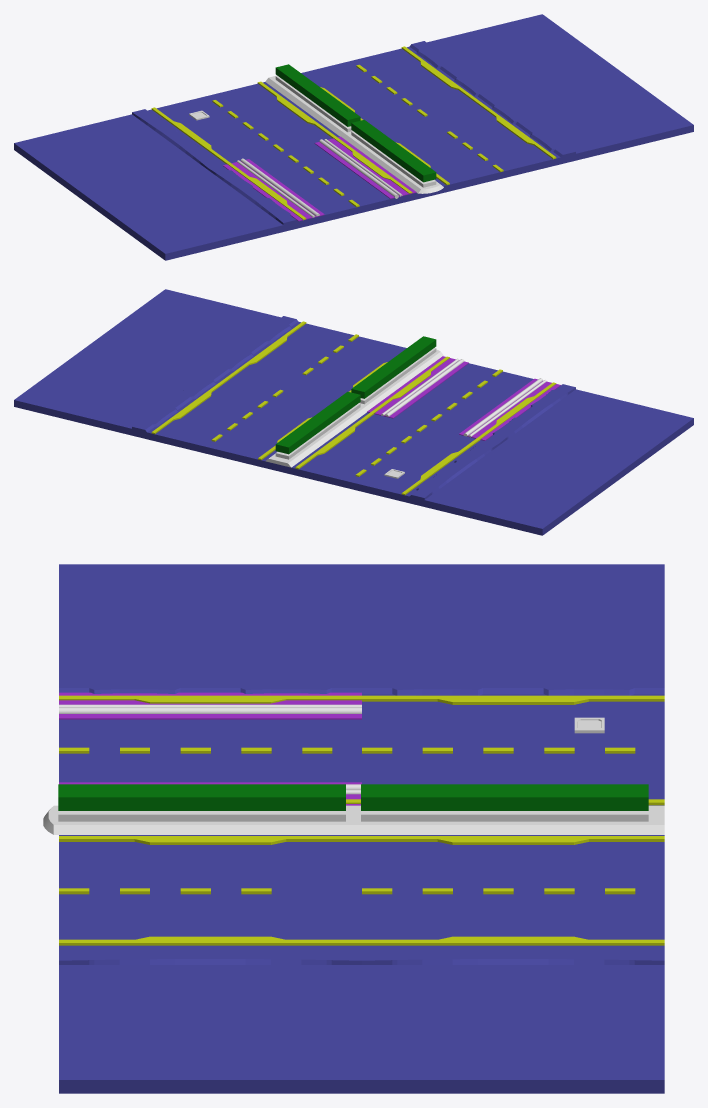
The model's file is Test_Route01.FBX.
3 views of the same model, one above another, from view 1: azimuth 30°, elevation 25°; view 2: azimuth 150°, elevation 25°; view 3: azimuth 270°, elevation 25° (orthographic). The views are drawn at different scales.
Parts seen in each view (by area): view 1: Box095, Box113, Box067, Box090, Box098, Box042, Box074, Box091, Box112, Box089, Box115, Box114 (+12 smaller); view 2: Box067, Box090, Box095, Box113, Box042, Box074, Box098, Box091, Box089, Box112, Box115, Box114 (+12 smaller); view 3: Box090, Box113, Box067, Box095, Box098, Box074, Box042, Box091, Box089, Box112, Box054, Box094 (+12 smaller).
Part boxes in pixels (box(x1,y1,x2,y2)): Box095: box(89, 164, 298, 260); Box113: box(485, 69, 693, 164); Box067: box(14, 109, 220, 204); Box090: box(409, 14, 617, 101); Box098: box(377, 102, 560, 195); Box042: box(147, 82, 339, 165); Box074: box(301, 46, 484, 128); Box091: box(250, 143, 429, 227); Box112: box(351, 119, 436, 182); Box089: box(275, 64, 360, 126); Box115: box(314, 136, 416, 198); Box114: box(223, 159, 324, 221); Box067: box(409, 439, 618, 535); Box090: box(14, 344, 222, 439); Box095: box(487, 384, 693, 479); Box113: box(90, 289, 298, 376); Box042: box(278, 412, 484, 502); Box074: box(147, 377, 330, 470); Box098: box(223, 321, 406, 403); Box091: box(394, 363, 533, 434); Box089: box(275, 391, 360, 454); Box112: box(351, 336, 436, 398); Box115: box(367, 356, 468, 418); Box114: box(459, 378, 560, 440); Box090: box(362, 946, 664, 1093); Box113: box(59, 946, 361, 1093); Box067: box(362, 564, 664, 695); Box095: box(59, 564, 361, 693); Box098: box(59, 835, 361, 947); Box074: box(362, 835, 664, 947); Box042: box(362, 694, 664, 805); Box091: box(59, 719, 361, 782); Box089: box(361, 784, 648, 810); Box112: box(58, 784, 345, 810); Box054: box(351, 805, 664, 834); Box094: box(43, 805, 356, 834).
Bounding box in the file's own units: 4030 × 2052 × 164.
